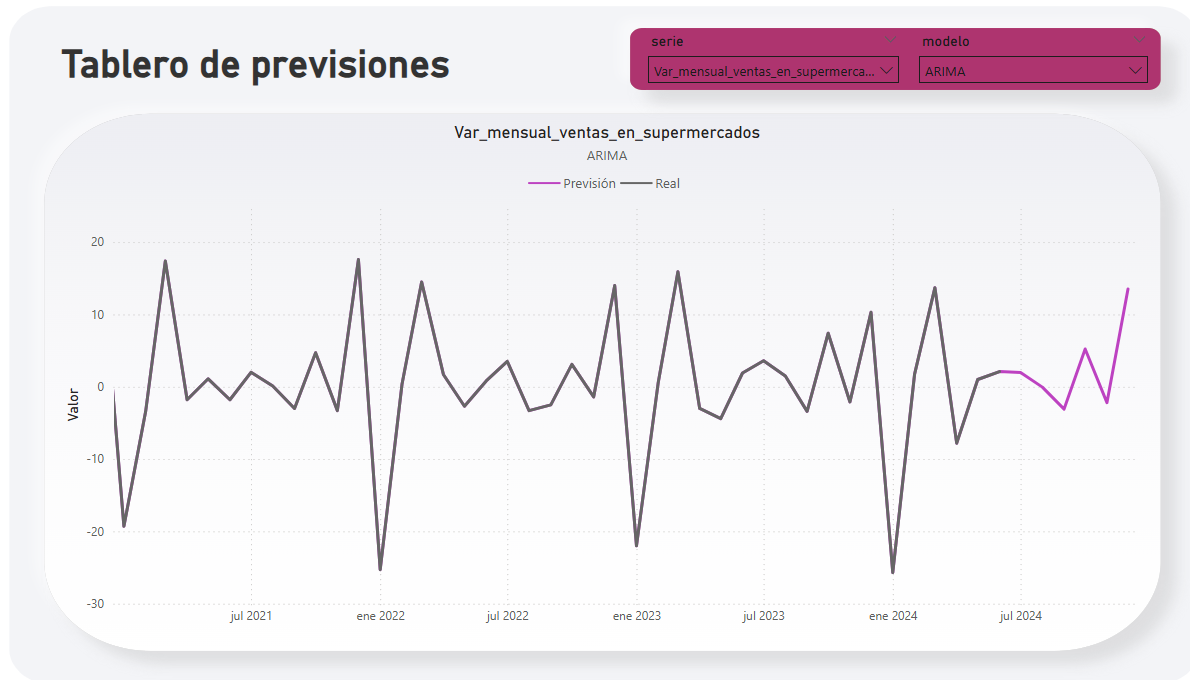

This screenshot's page, from the dashboard's own definition file:
{"tool":"powerbi","page":{"name":"Serie temporal","canvas":[1280,720],"ordinal":0},"visuals":[{"type":"lineChart","fields":{"Category":["public previsiones.fecha.Variación.Jerarquía de fechas.Año","public previsiones.fecha.Variación.Jerarquía de fechas.Trimestre","public previsiones.fecha.Variación.Jerarquía de fechas.Mes","public previsiones.fecha.Variación.Jerarquía de fechas.Día"],"Y":["public previsiones.Previsión","public previsiones.Real"]},"box":[106,132.8,1093.5,511.7],"z":0},{"type":"slicer","fields":{"Values":["public previsiones.serie"]},"box":[684.5,39.3,270.3,60.2],"z":1000},{"type":"slicer","fields":{"Values":["public previsiones.modelo"]},"box":[954.8,39.3,249.3,63.5],"z":2000},{"type":"card","fields":{"Values":["select"]},"box":[86.4,36,430.6,70],"z":3000}]}

Visuals, with their boxes in screenshot pixels (x1, y1, x2, y2), scaled from the page's 1280x720 canvas onto the 1190x680 screenshot:
lineChart - public previsiones.fecha.Variación.Jerarquía de fechas.Año x public previsiones.fecha.Variación.Jerarquía de fechas.Trimestre: <bbox>99, 125, 1115, 609</bbox>
slicer - public previsiones.serie: <bbox>636, 37, 888, 94</bbox>
slicer - public previsiones.modelo: <bbox>888, 37, 1119, 97</bbox>
card - select: <bbox>80, 34, 481, 100</bbox>
